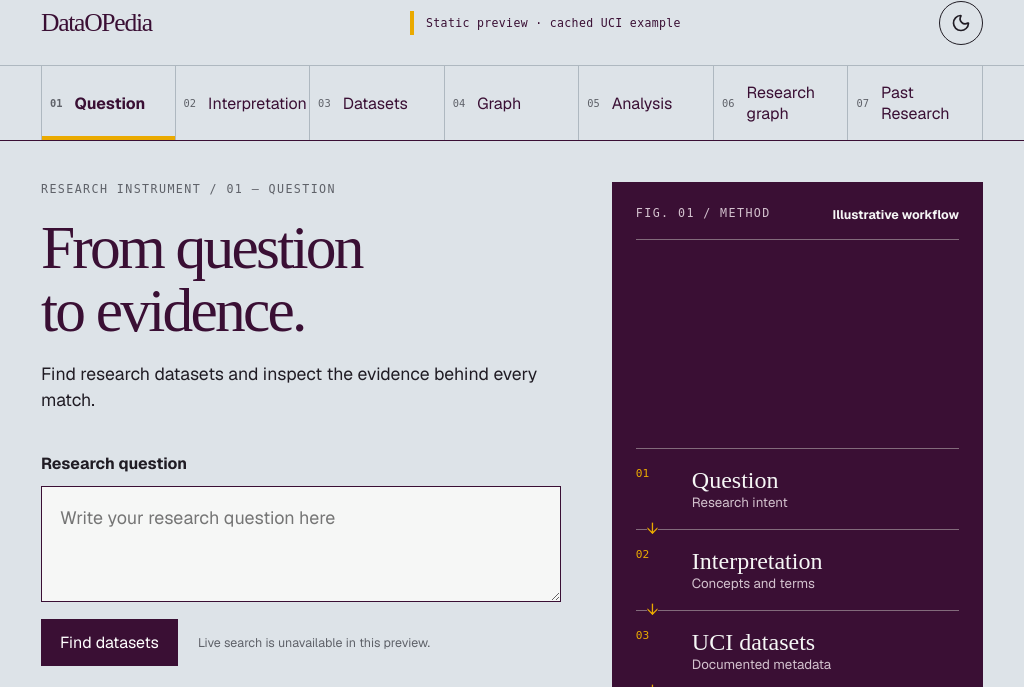
Scenario: keeps an edited question separate from fixed example results
Step 1. Type "Does sleep affect memory?" into the text box labelled "Research question" → (301, 544), box [41,486,561,602]
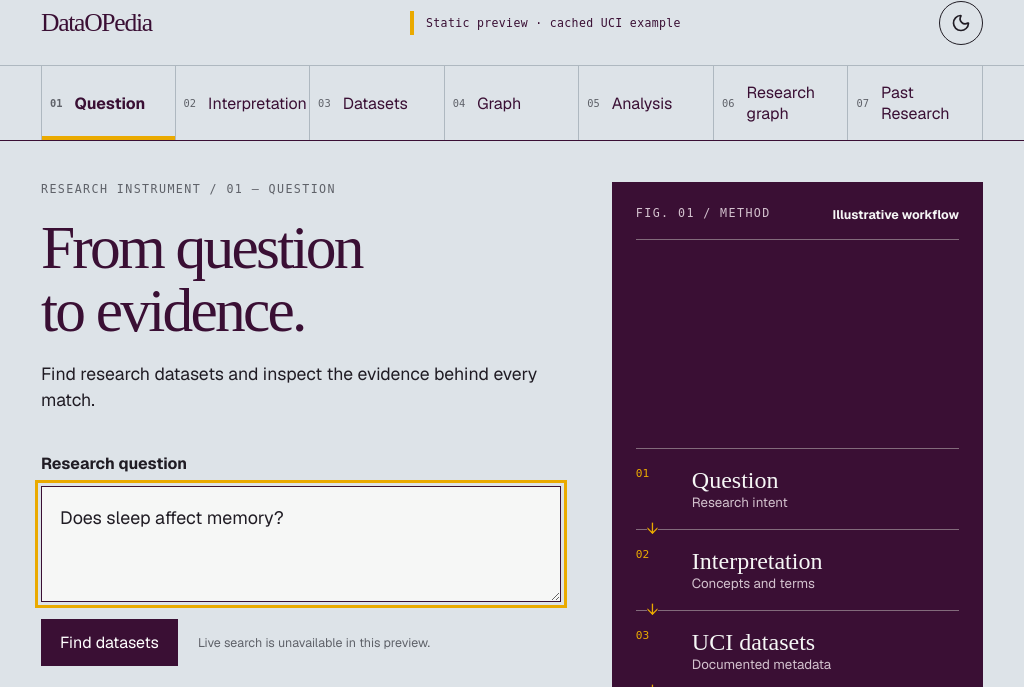
Step 2. Click the button "Find datasets" → (110, 643), box [41,619,178,666]
(page scrolled)
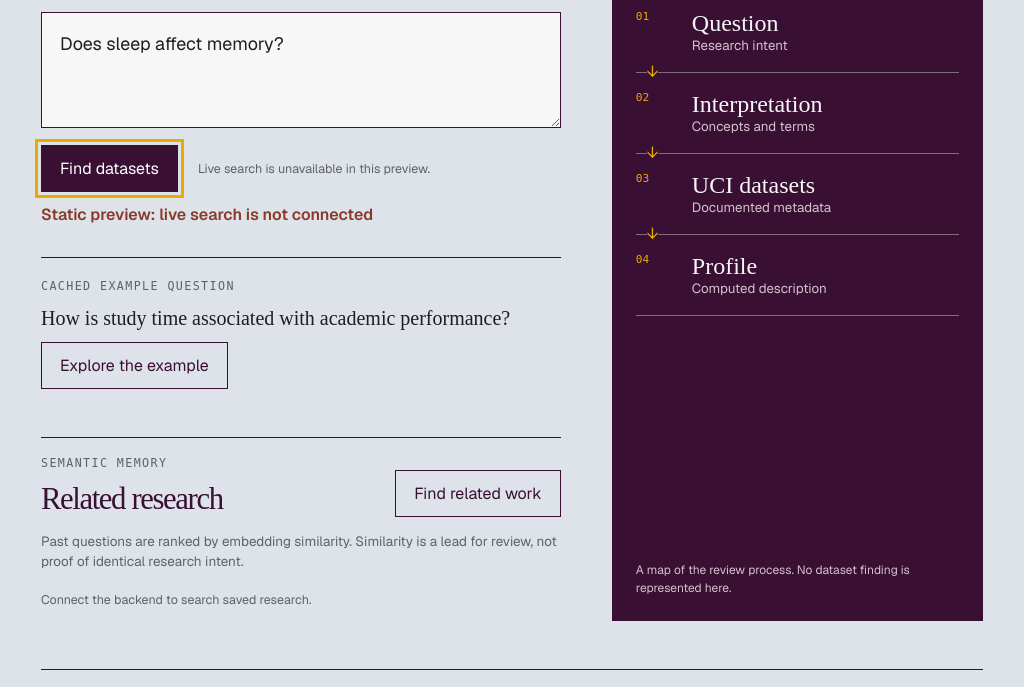
Check: the message reads "Static preview: live search is not connected", box [41,204,373,225]
Step 3. Click the button "Explore the example" → (134, 366), box [41,342,228,389]
(page scrolled)
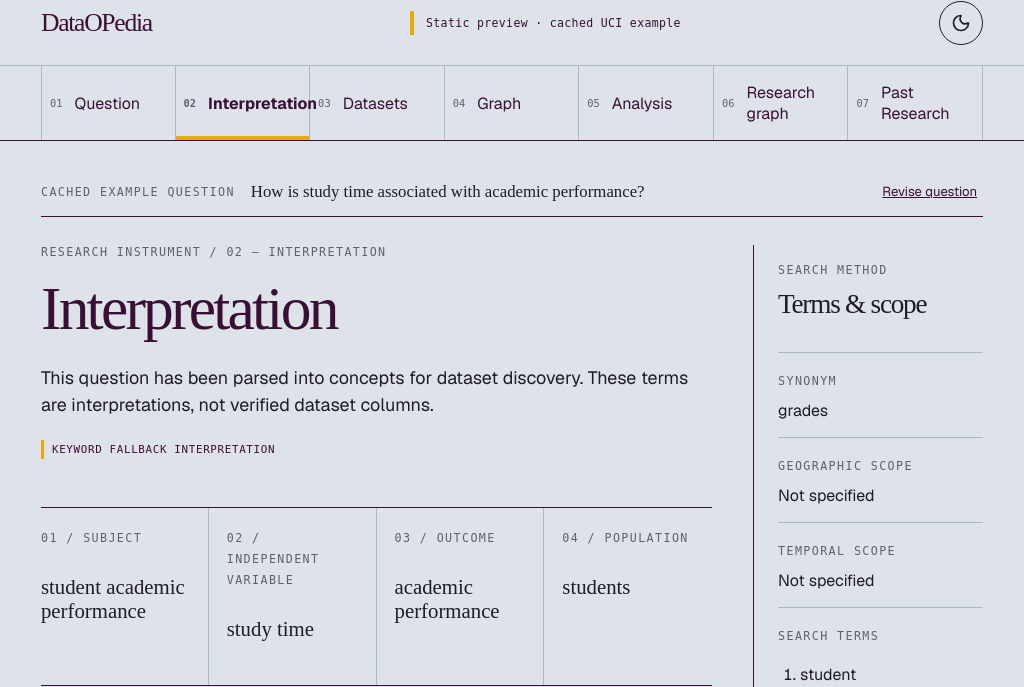
Check: the text "Does sleep affect memory?" is not shown
Check: the text "How is study time associated with academic performance?" next to "Cached example question" is shown, box [251,182,645,201]
